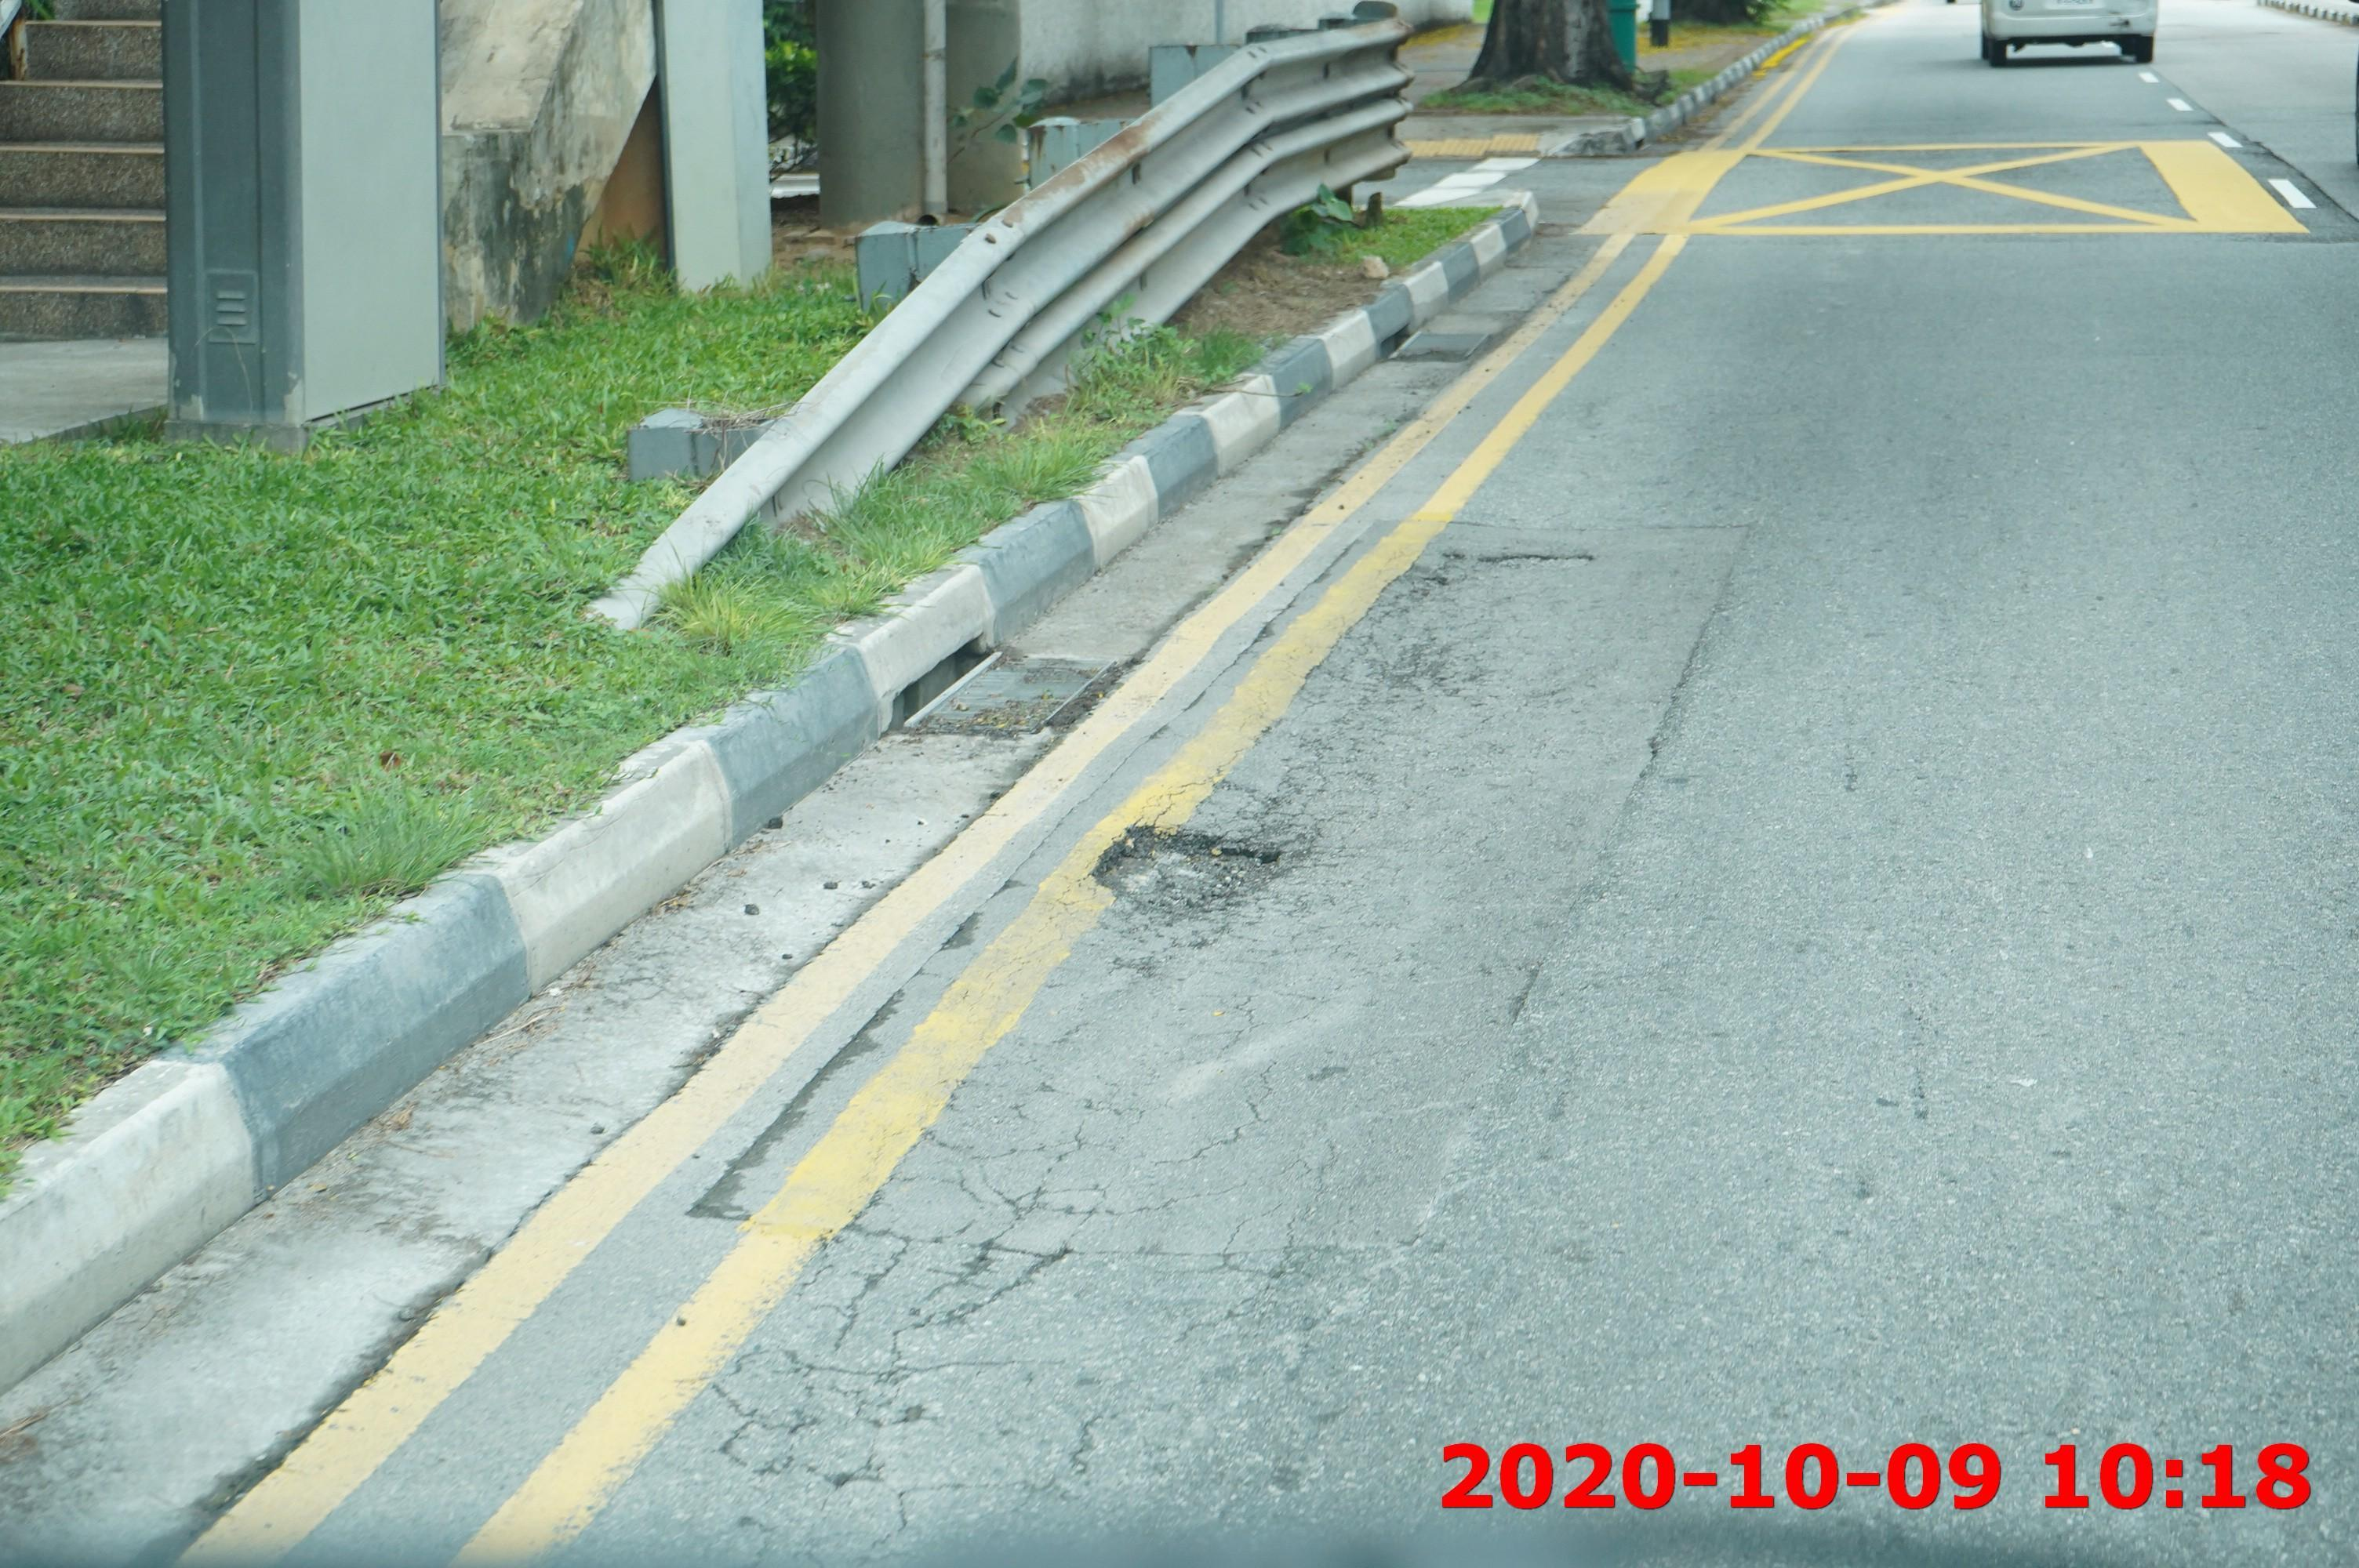alligator crack: (682, 1097, 1211, 1568)
peel off with cracks: (1085, 807, 1297, 931)
